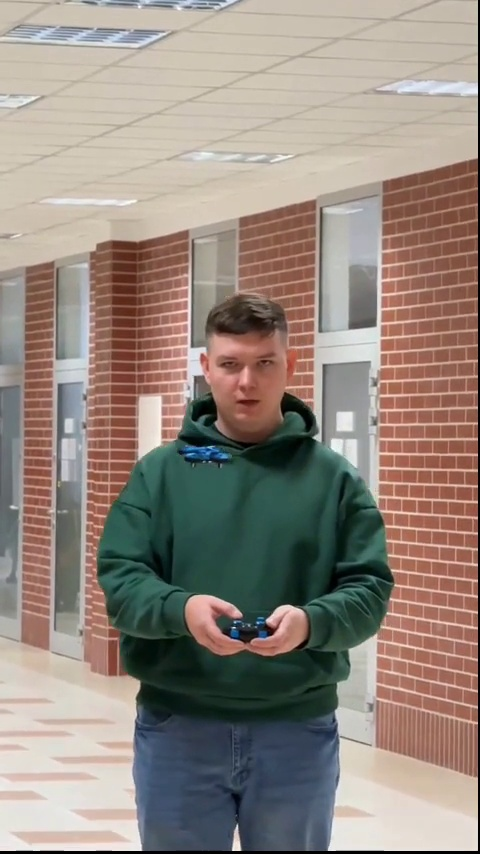drone: (175, 440, 235, 470)
no vest: (101, 288, 394, 849)
